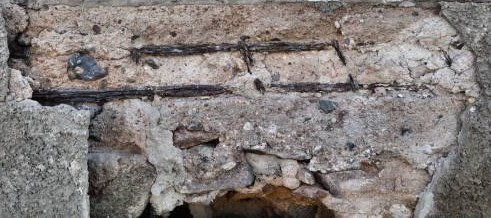Exposed reinforcement: (32, 84, 233, 106), (125, 41, 333, 55), (267, 82, 423, 93), (237, 35, 255, 74), (331, 38, 347, 67), (253, 77, 266, 96), (129, 47, 140, 67), (348, 72, 357, 94)
Spalling: (1, 1, 485, 218)
